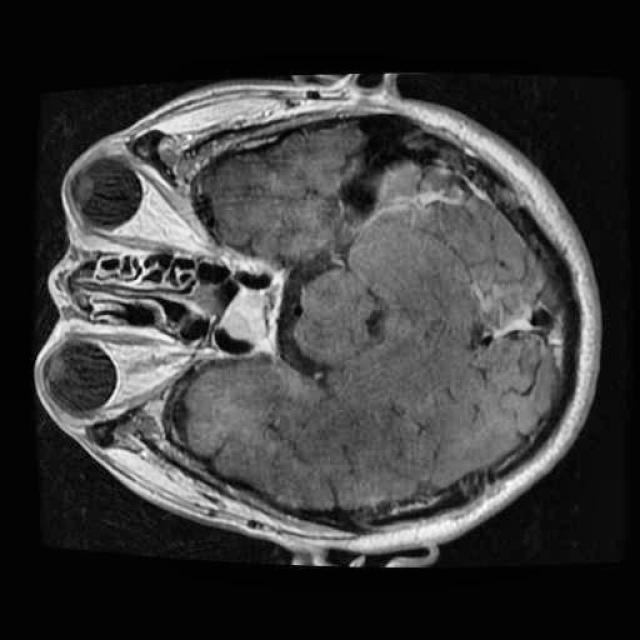Tumor: (213, 279, 278, 351)
